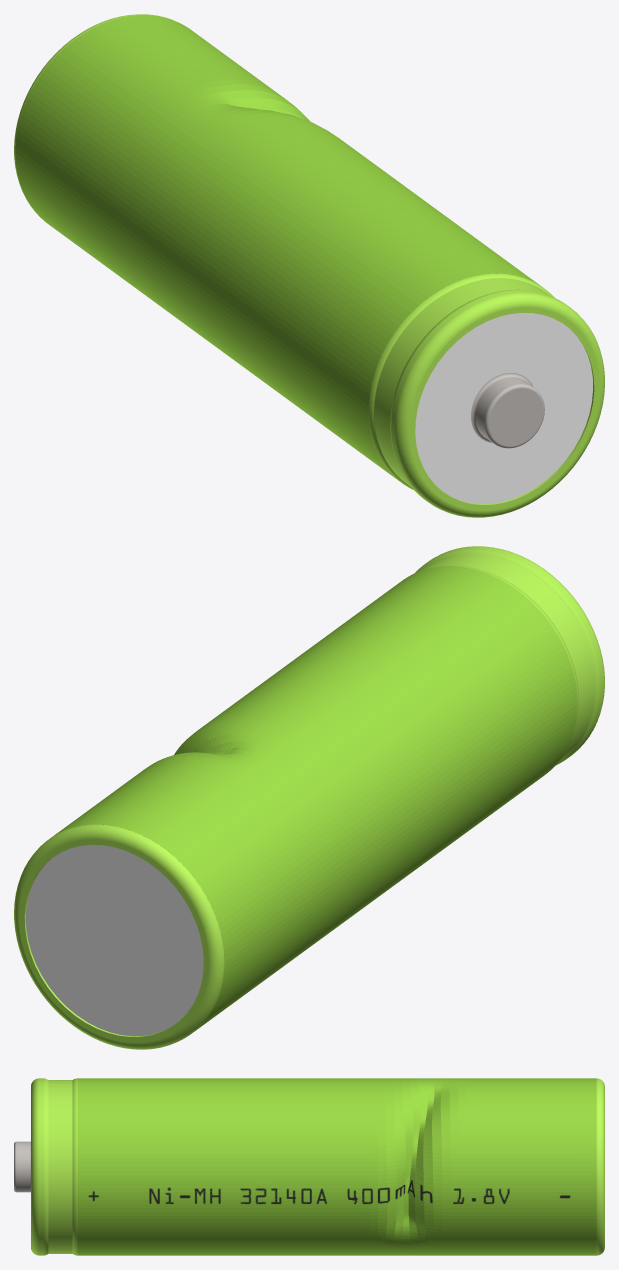
The model's file is defect_5.glb.
3 renders of one model, top to bottom at view 1: azimuth 30°, elevation 25°; view 2: azimuth 150°, elevation 25°; view 3: azimuth 270°, elevation 25°, orthographic. The views are drawn at different scales.
Visible parts, largest first — view 1: Cylinder, Cell_Top; view 2: Cylinder, Cell_bottom, Cell_Top; view 3: Cylinder, Cell_Top, Cell_bottom.
Part boxes in pixels (bbox=[...]): Cylinder: bbox=[15, 15, 550, 480]; Cell_Top: bbox=[368, 273, 604, 517]; Cylinder: bbox=[41, 566, 577, 1031]; Cell_bottom: bbox=[14, 824, 224, 1049]; Cell_Top: bbox=[415, 546, 604, 765]; Cylinder: bbox=[77, 1078, 596, 1255]; Cell_Top: bbox=[14, 1078, 77, 1255]; Cell_bottom: bbox=[596, 1078, 604, 1255].
Size of the model in its own units: 0.021 by 0.021 by 0.07.
10 materials, 1 textured.
